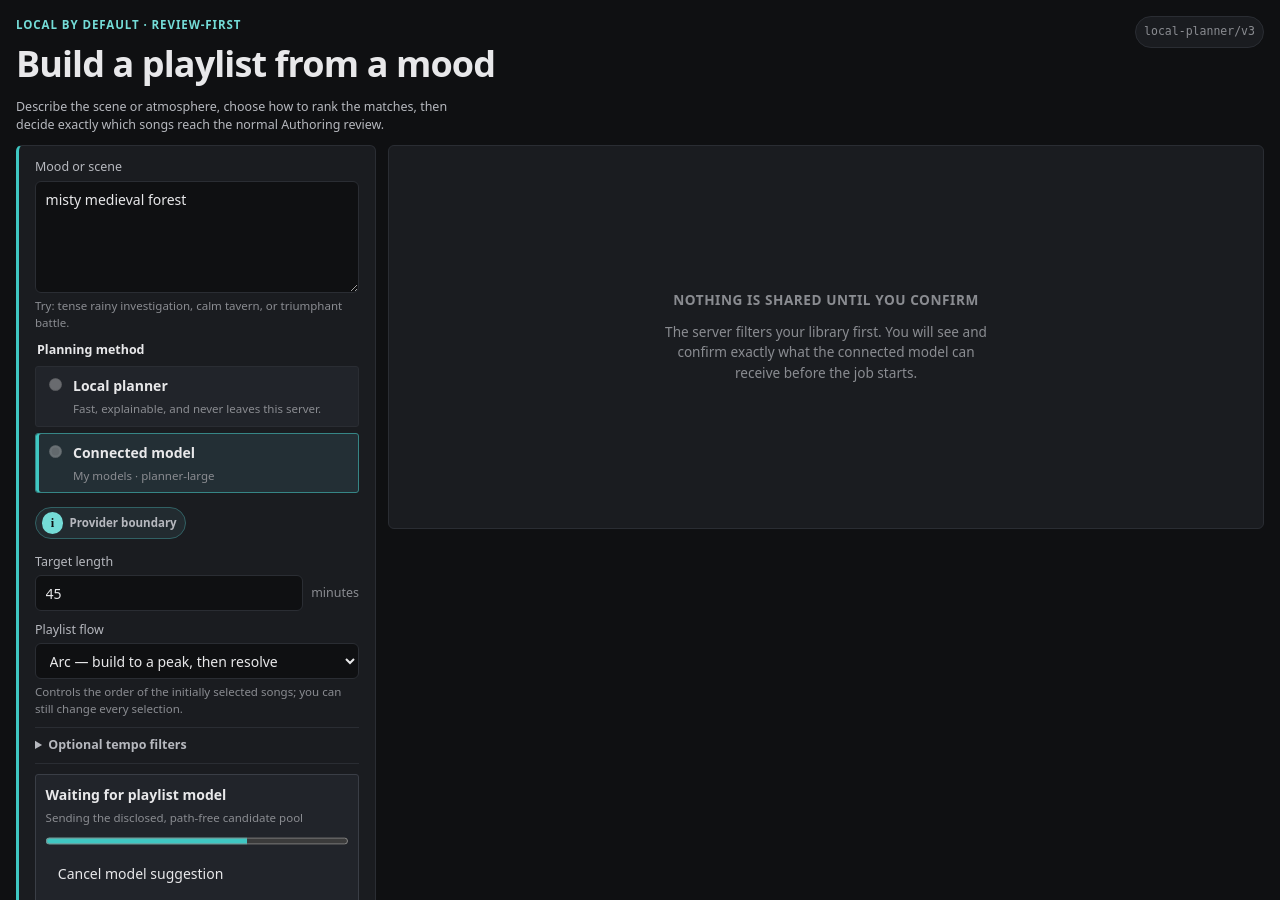
Test case: PlaylistBuilderView › restores a running job after reopen, cancels it, and offers local fallback
Check: the text "Waiting for playlist model" is shown, box [46,785,226,804]
Check: the text box labelled "Mood or scene" holds "misty medieval forest", box [35,181,359,293]
What coordinates should you click on to do the following:
click the button "Cancel model suggestion"
I would click on:
 (141, 874)
Its box is [46,856,236,891].
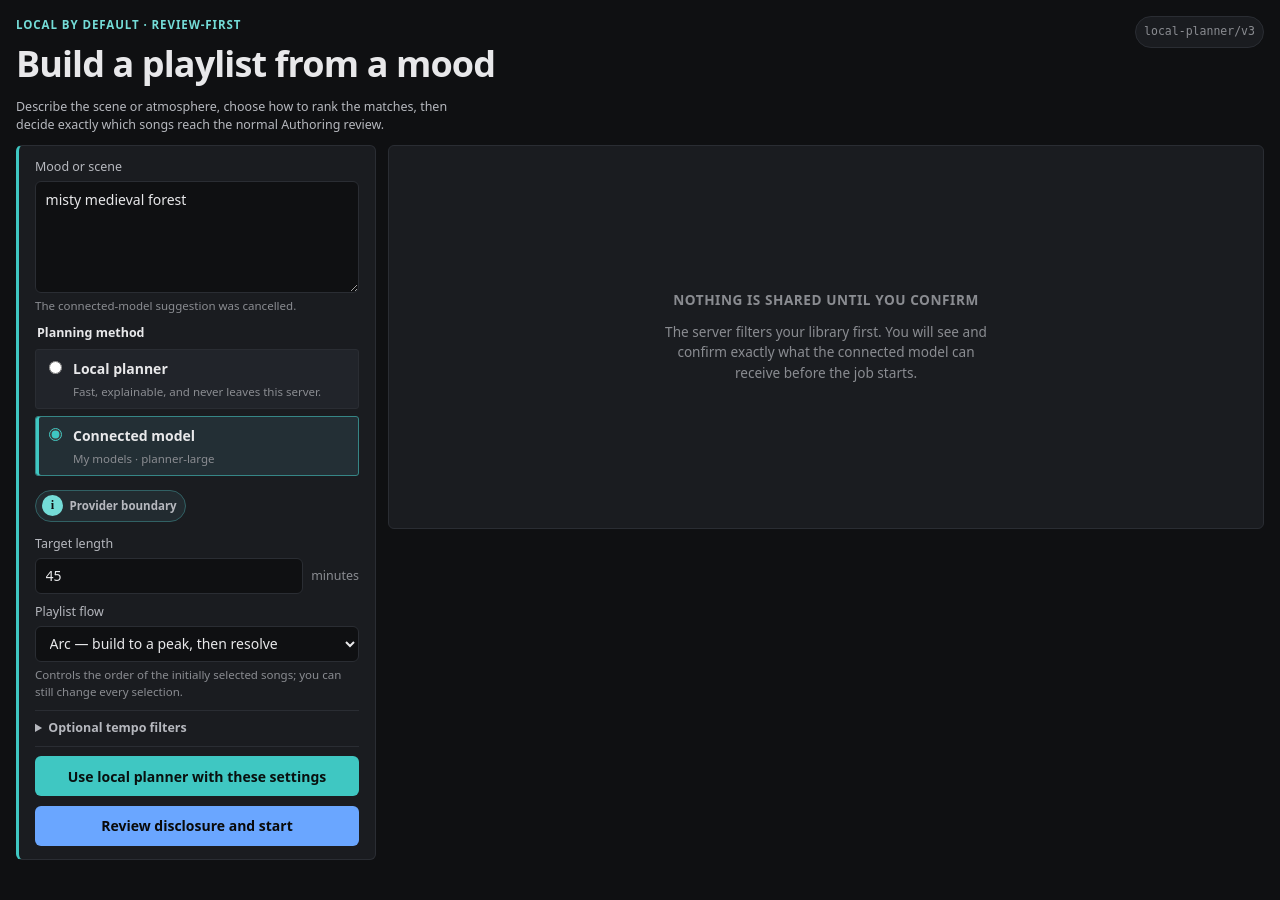
Check: the text "The connected-model suggestion was cancelled." is shown, box [35,298,296,313]
What coordinates should you click on to do the following:
click the button "Use local planner with these settings"
I would click on:
 (197, 776)
Its box is [35,756,359,796].
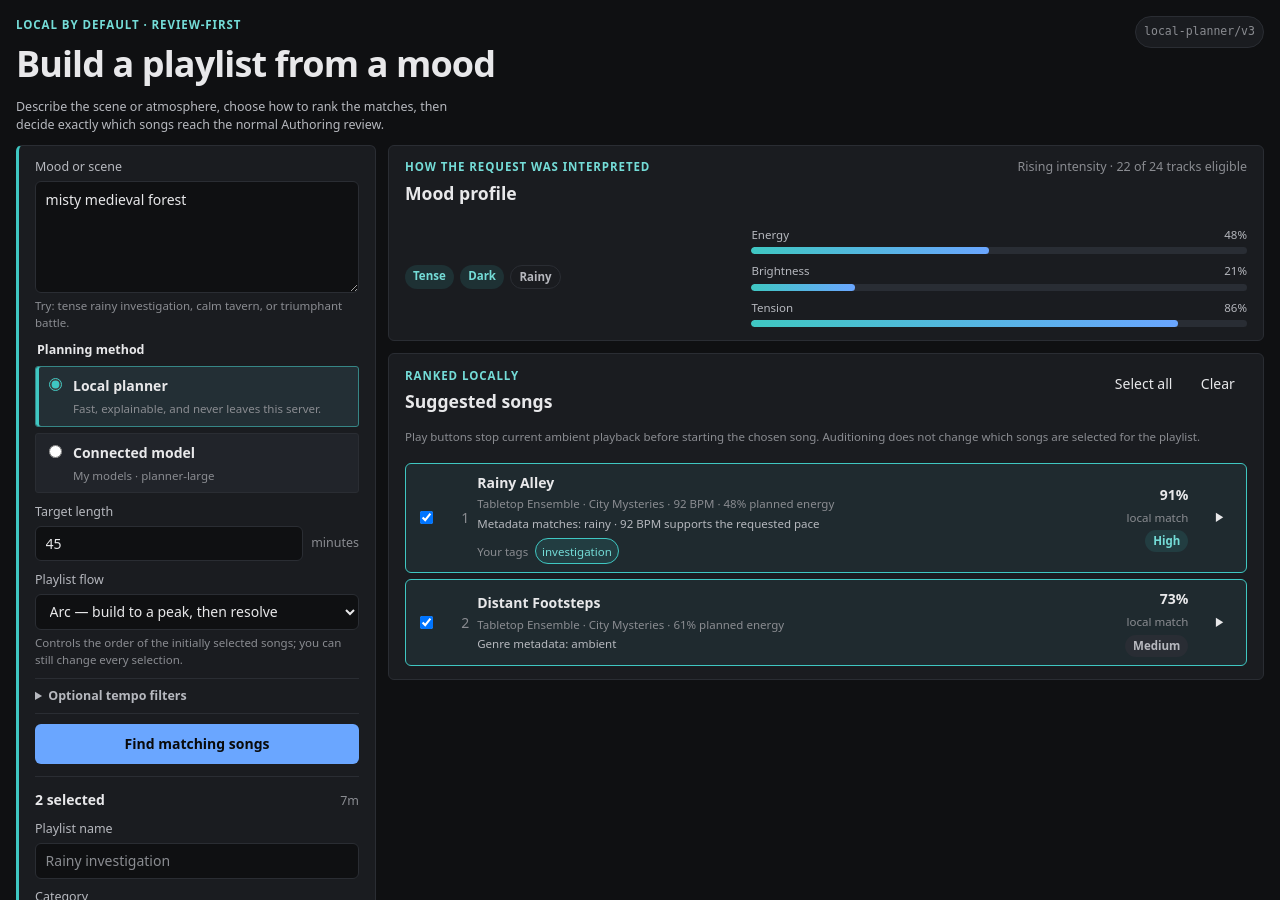
Check: the text "Ranked locally" is shown, box [405,368,519,382]
